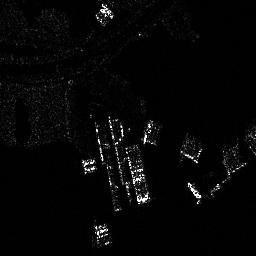ship: (131, 174, 152, 205), (124, 144, 145, 171), (186, 182, 202, 199)
